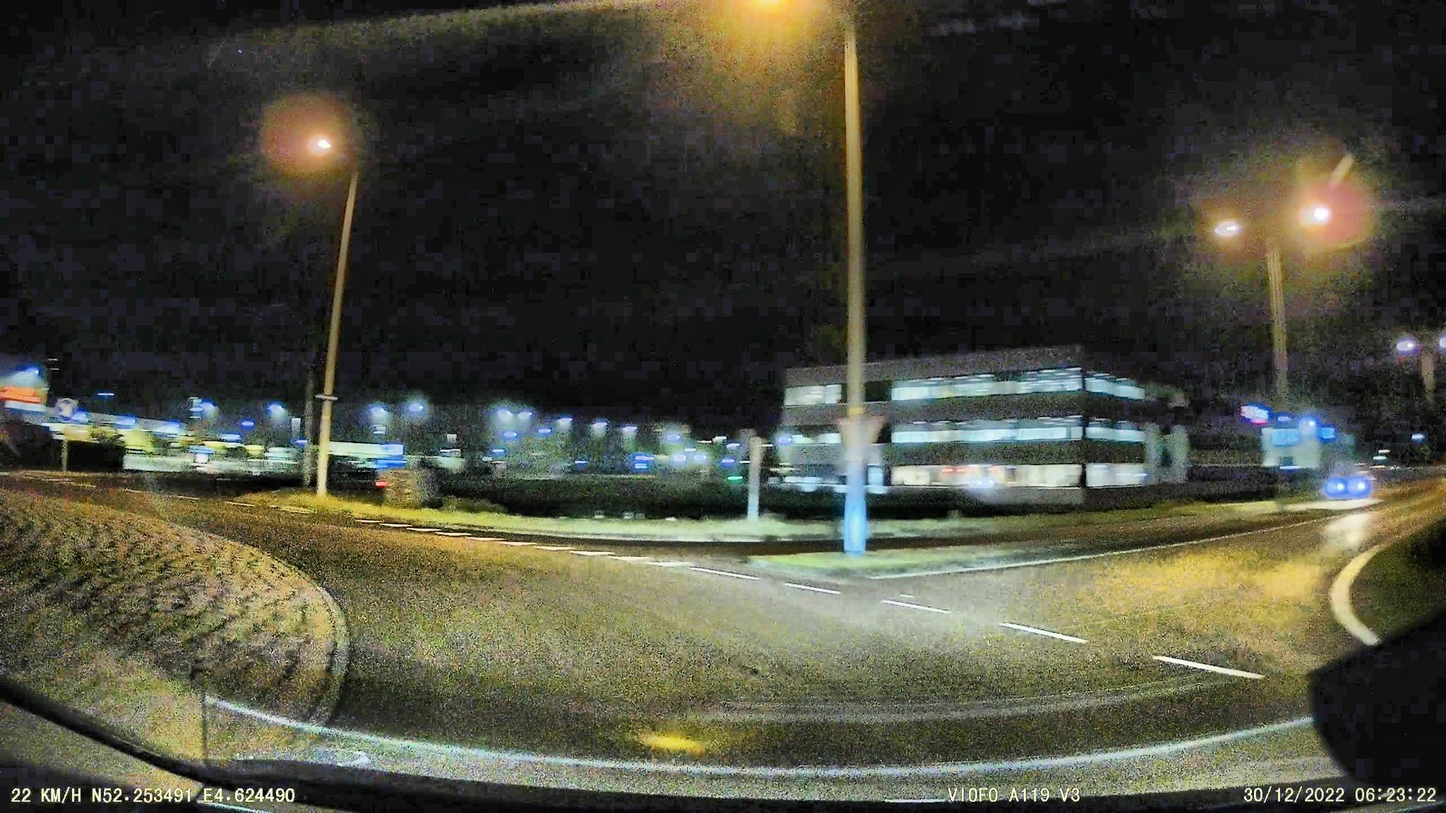Roads: (192, 475, 1446, 763)
